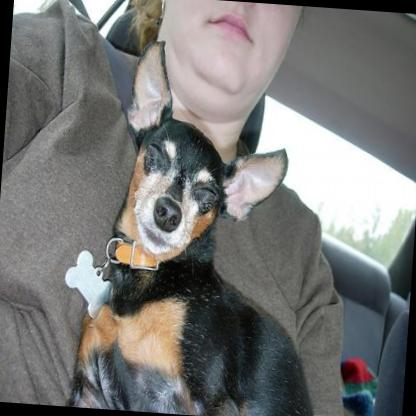miniature_pinscher: (65, 33, 340, 416)
